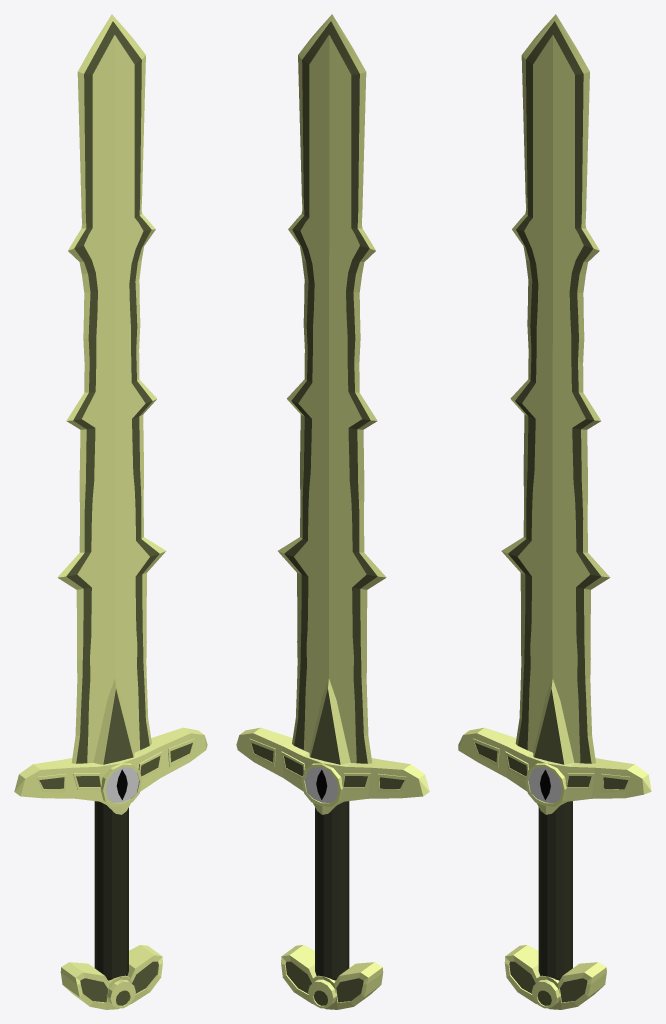
File: longsword_stun.fbx
3 views of the same model, side by side, from view 1: azimuth 30°, elevation 25°; view 2: azimuth 150°, elevation 25°; view 3: azimuth 330°, elevation 25° (orthographic).
Visible parts, largest first — view 1: LongSword_Stun; view 2: LongSword_Stun; view 3: LongSword_Stun.
Part boxes in pixels (x1=…): LongSword_Stun: x1=14, y1=14, x2=207, y2=1009; LongSword_Stun: x1=236, y1=14, x2=429, y2=1009; LongSword_Stun: x1=458, y1=14, x2=651, y2=1009.
Bounding box in the file's own units: 0.0797 × 1.9 × 0.3877.
